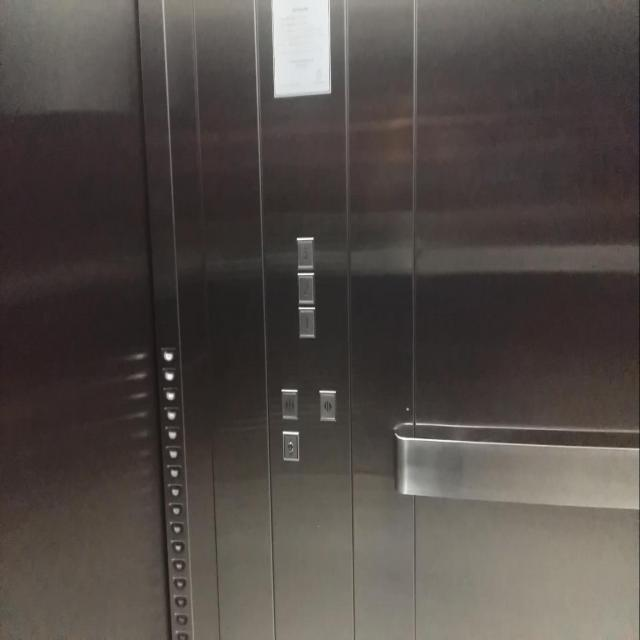1: (296, 305, 315, 338)
2: (296, 269, 314, 304)
3: (295, 235, 314, 267)
bt_keyhole: (280, 428, 300, 462)
close: (280, 388, 298, 420)
open: (317, 388, 336, 421)
